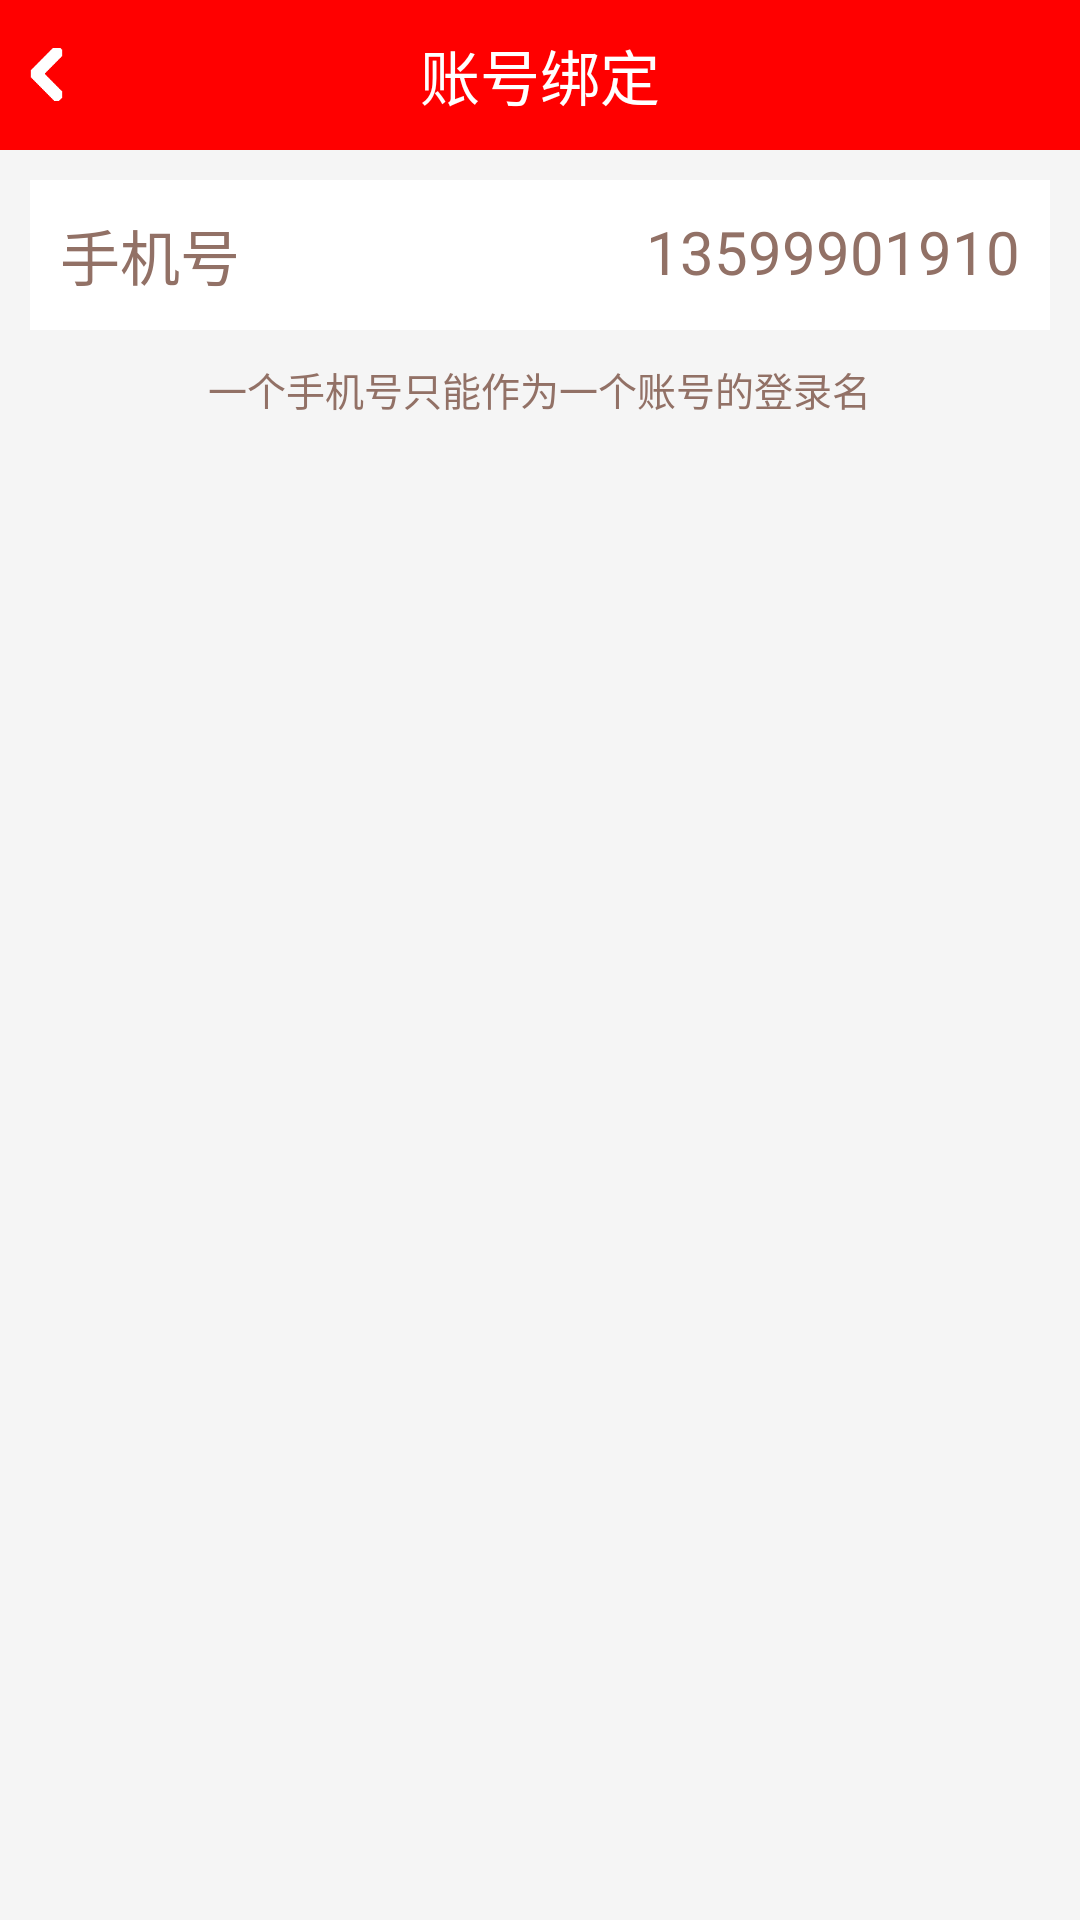

Where to tap for icons on this 1080px x 1920px app screen, as point (x, y):
bar back: point (46, 74)
